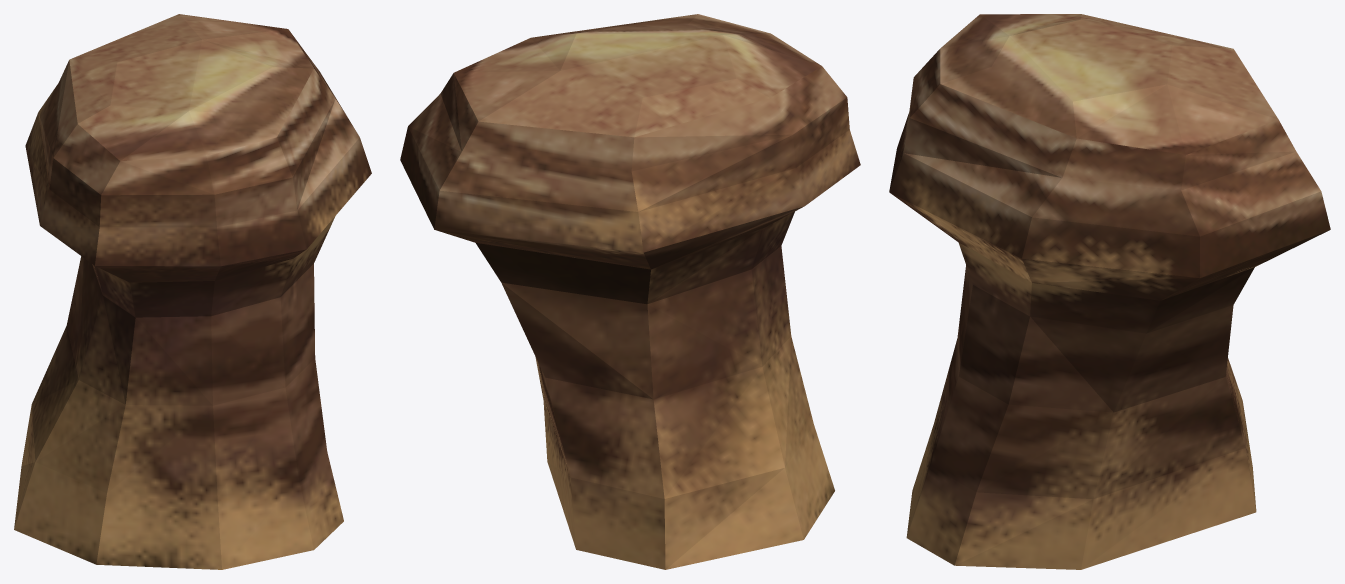
File: shitou20.FBX
3 views of the same model, side by side, from view 1: azimuth 30°, elevation 25°; view 2: azimuth 150°, elevation 25°; view 3: azimuth 270°, elevation 25° (orthographic). The views are drawn at different scales.
Parts seen in each view (by area): view 1: shitou20; view 2: shitou20; view 3: shitou20.
Boxes of the visible parts, x1,y1,x2,y2 form: shitou20: (14, 14, 371, 569); shitou20: (400, 14, 860, 569); shitou20: (889, 14, 1330, 569).
Size of the model in its own units: 222 by 255 by 222.
